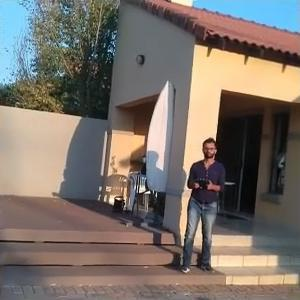follow: (176, 134, 227, 276)
